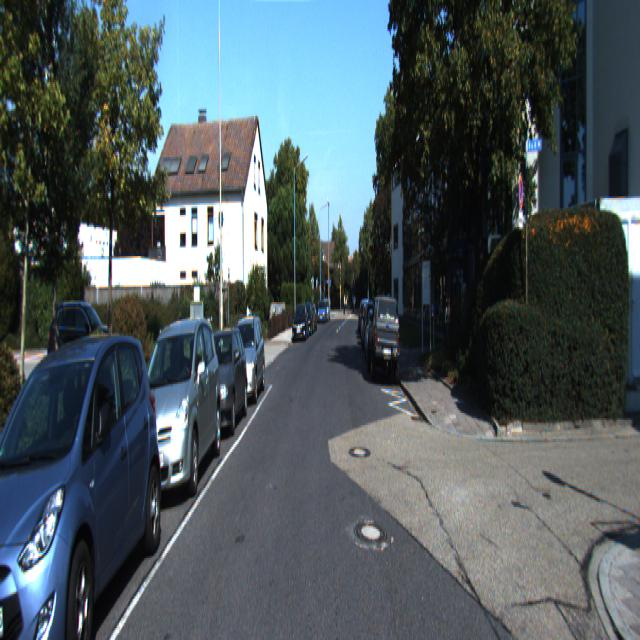Car: (0, 325, 168, 639), (124, 312, 223, 509), (192, 325, 248, 441), (224, 314, 266, 406), (366, 292, 401, 386), (292, 302, 308, 341), (318, 300, 328, 324)
